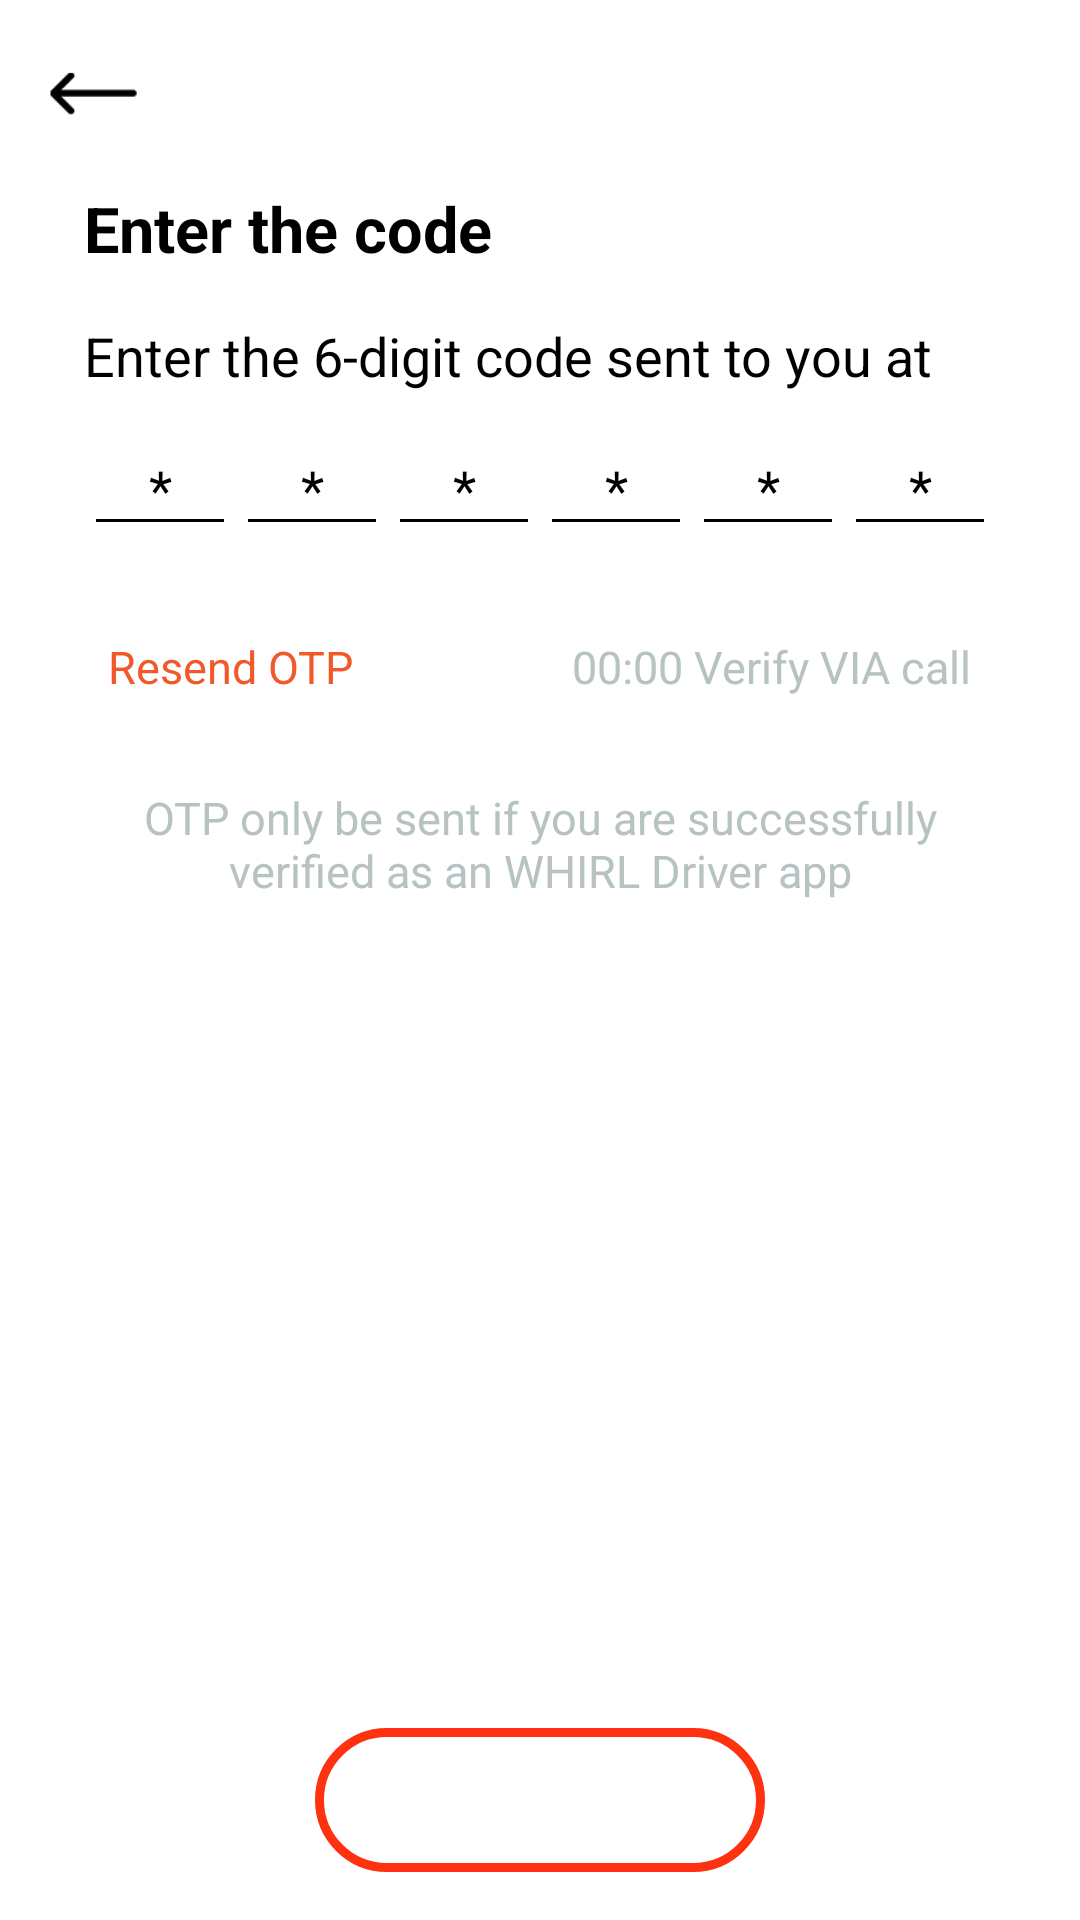

Named icons in this screenshot (1080×1920) and their bounding boxes, box=[x1, y1, x2, y2]:
backarrow: box=[50, 72, 137, 115]
